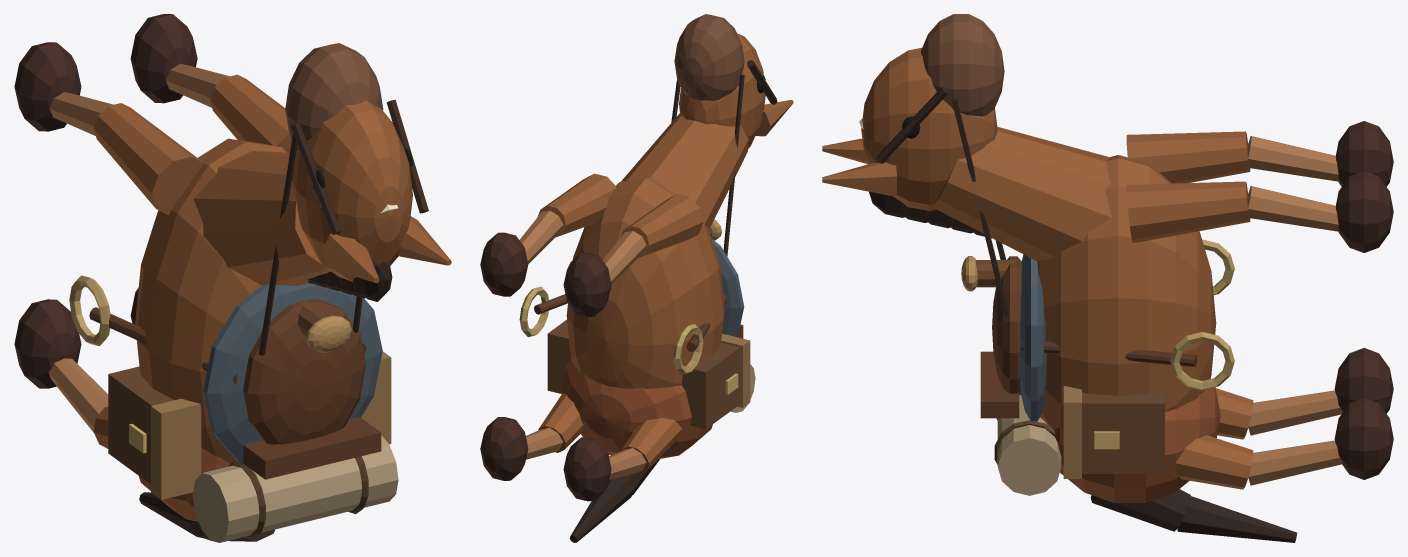
3 views of the same model, side by side, from view 1: azimuth 30°, elevation 25°; view 2: azimuth 150°, elevation 25°; view 3: azimuth 270°, elevation 25° (orthographic). The views are drawn at different scales.
Parts seen in each view (by area): view 1: NavigationAvatar; view 2: NavigationAvatar; view 3: NavigationAvatar.
Boxes of the visible parts, <box> form: NavigationAvatar: <box>14,14,451,542</box>; NavigationAvatar: <box>480,14,793,542</box>; NavigationAvatar: <box>822,14,1393,542</box>.
Bounding box in the file's own units: 1.03 × 2.54 × 2.51.
